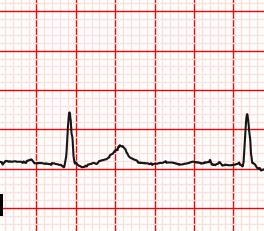LVH: (92, 141, 146, 168)
